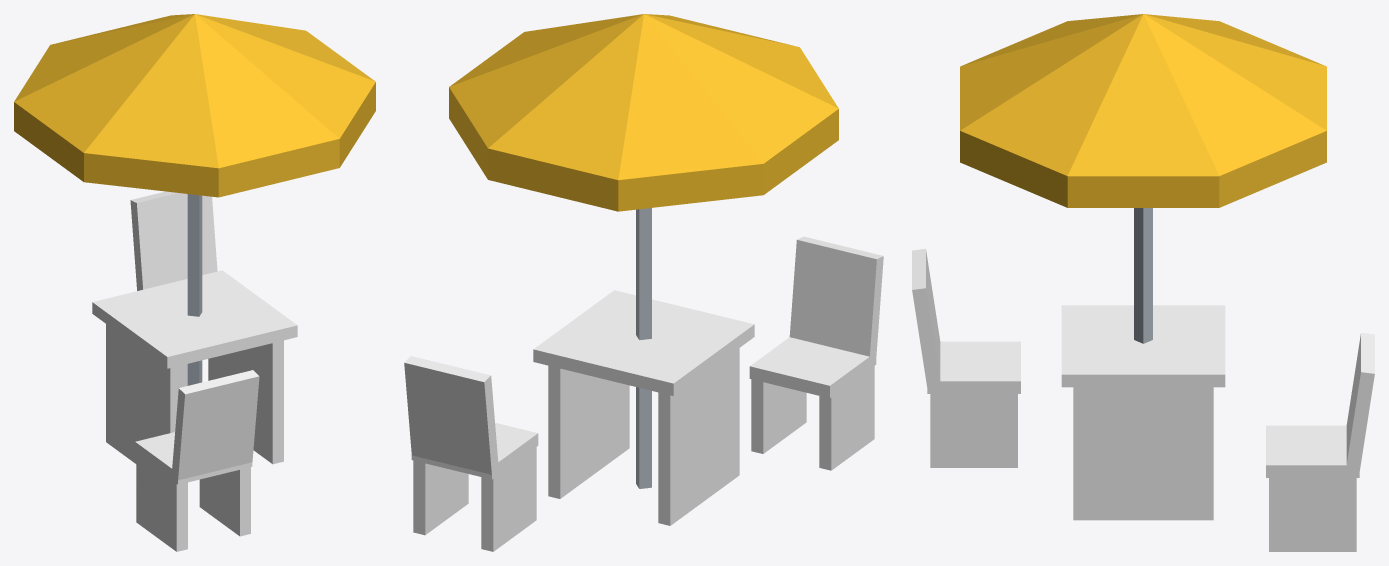
The model's file is guarda_sol_a.glb.
The picture shows the model from 3 angles, left to right: view 1: azimuth 30°, elevation 25°; view 2: azimuth 150°, elevation 25°; view 3: azimuth 270°, elevation 25°; orthographic projection. The views are drawn at different scales.
Visible parts, largest first — view 1: corpo; view 2: corpo; view 3: corpo.
Boxes of the visible parts, box(x1,y1,x2,y2) form: corpo: box(14, 14, 375, 551); corpo: box(404, 14, 883, 551); corpo: box(912, 14, 1374, 551).
Size of the model in its own units: 0.3141 by 0.45 by 0.3963.
